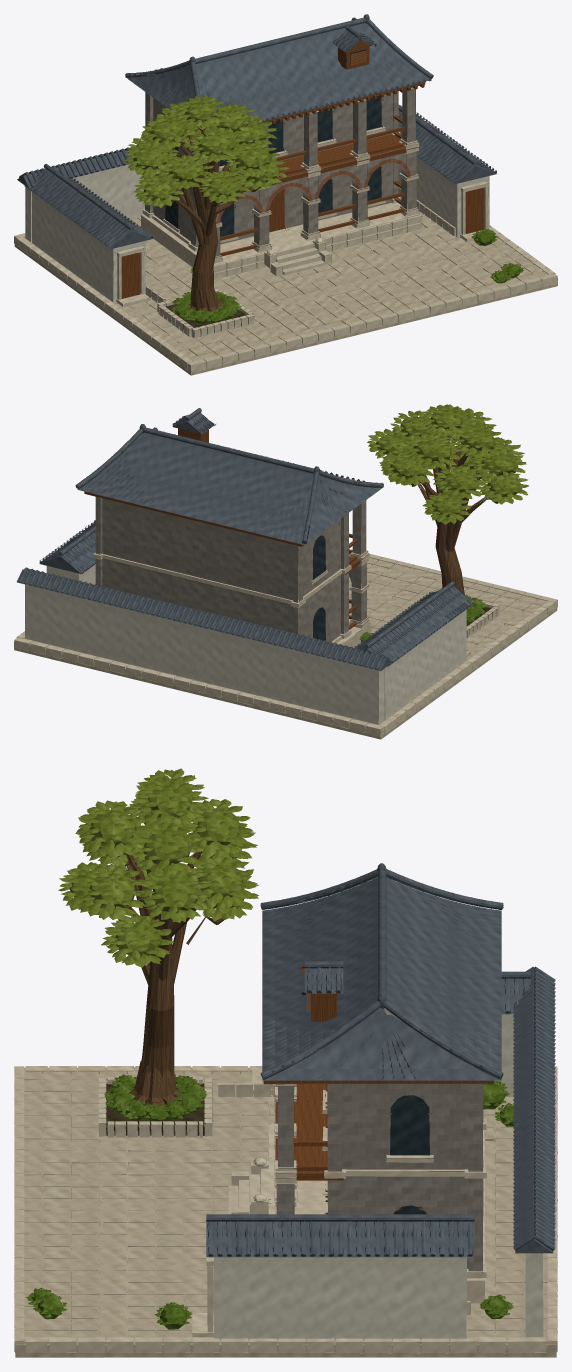
The model's file is zunyi-scene.glb.
3 views of the same model, one above another, from view 1: azimuth 30°, elevation 25°; view 2: azimuth 150°, elevation 25°; view 3: azimuth 270°, elevation 25° (orthographic). The views are drawn at different scales.
Parts seen in each view (by area): view 1: zunyi-scene-complete-environment; view 2: zunyi-scene-complete-environment; view 3: zunyi-scene-complete-environment.
Boxes of the visible parts, box(x1,y1,x2,y2) form: zunyi-scene-complete-environment: box(14, 14, 557, 375); zunyi-scene-complete-environment: box(14, 404, 557, 739); zunyi-scene-complete-environment: box(14, 768, 557, 1357).
Size of the model in its own units: 1 by 0.5559 by 0.7973.
12 materials, 12 textured.
